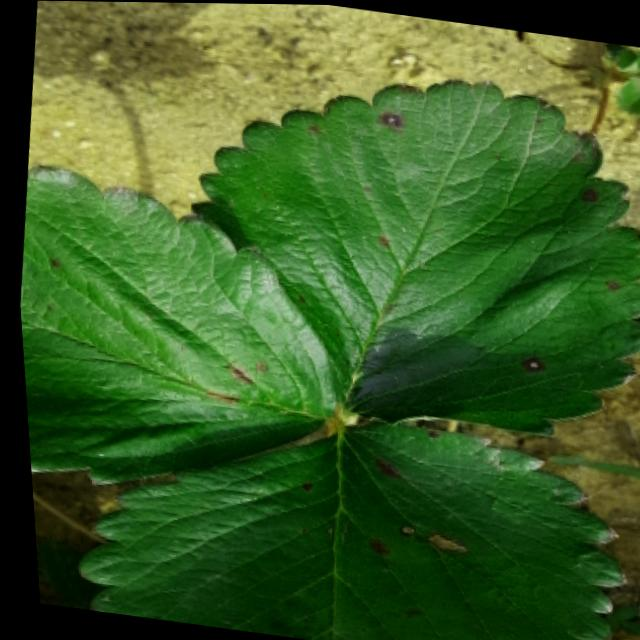Leaf Spot: (186, 74, 640, 437), (67, 415, 619, 640), (16, 161, 330, 486)
